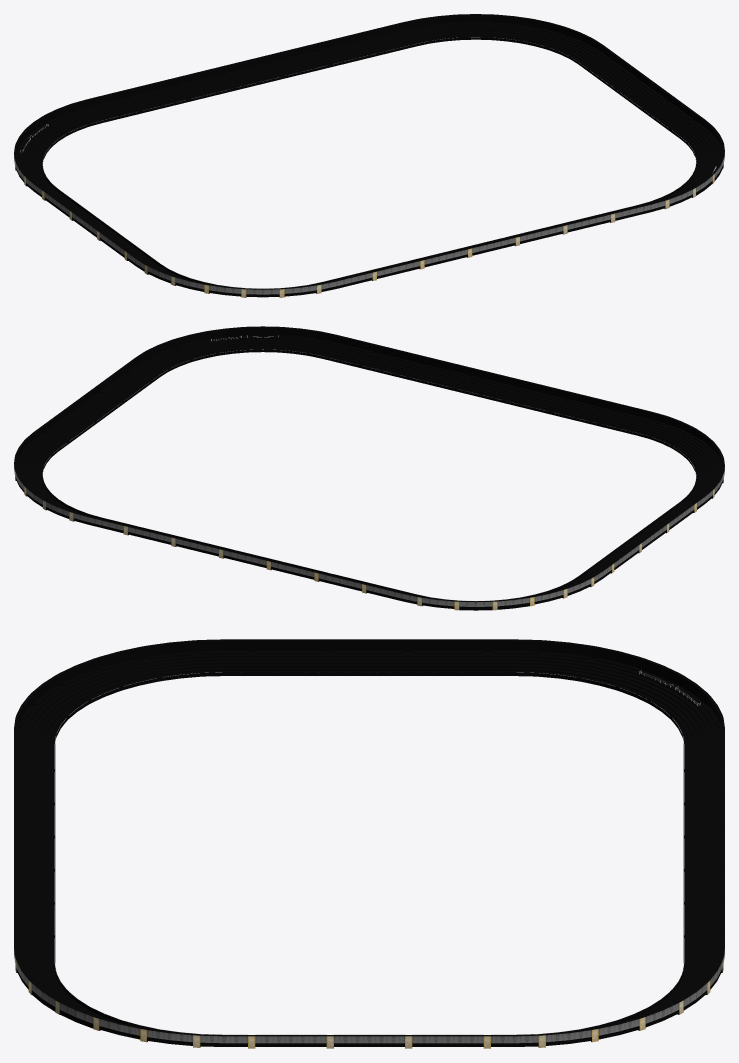
The model's file is Level_2.fbx.
3 views of the same model, one above another, from view 1: azimuth 30°, elevation 25°; view 2: azimuth 150°, elevation 25°; view 3: azimuth 270°, elevation 25° (orthographic). The views are drawn at different scales.
Parts seen in each view (by area): view 1: Level 2, Level 2 Barriers; view 2: Level 2, Level 2 Barriers; view 3: Level 2, Level 2 Barriers.
Part boxes in pixels (x1,y1,x2,y2): Level 2: (14,14,724,297); Level 2 Barriers: (20,37,716,288); Level 2: (14,326,724,610); Level 2 Barriers: (42,335,696,600); Level 2: (14,639,724,1048); Level 2 Barriers: (54,670,700,1034).
Bounding box in the file's own units: 6978 × 161 × 5283.
7 materials, 2 textured.
